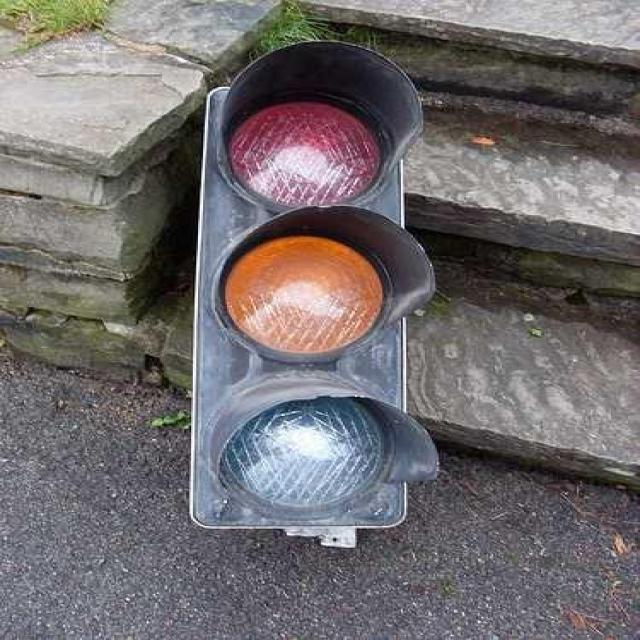Traffic Light -Off-: (179, 34, 449, 540)
